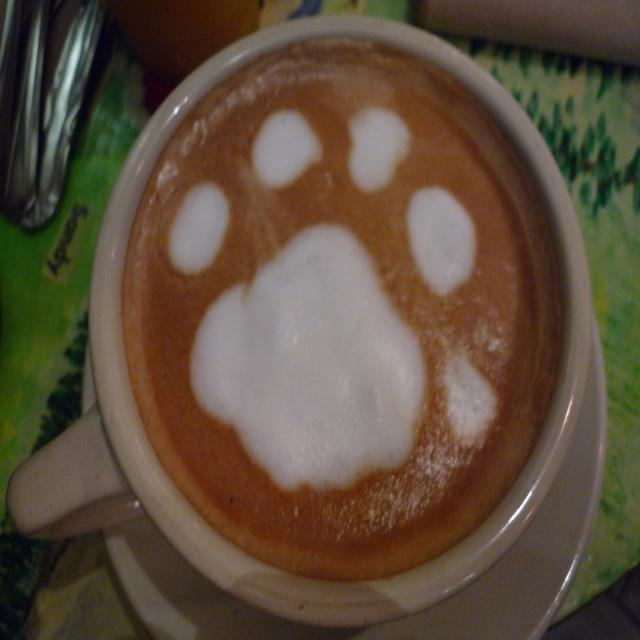Coffee: (77, 6, 607, 640)
